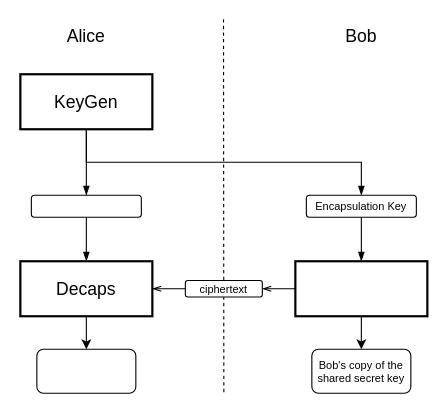
Image size: 447x414. Some labels were removed from this diagram. The shapes that lost their labels are listed below. From the top down, each one's centre as x and y in pixels, then its label:
the point at 85,205: Decapsulation Key
the point at 361,288: Encaps
the point at 86,370: Alice's copy of the shared secret key
